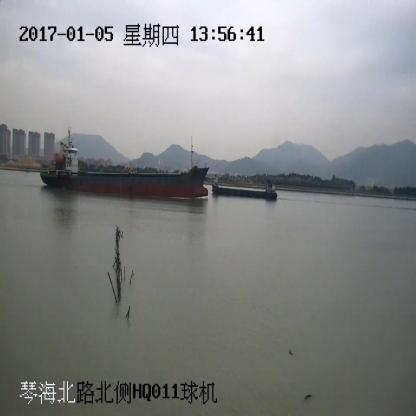Bulk Carrier: (41, 129, 209, 199), (212, 172, 276, 199)
